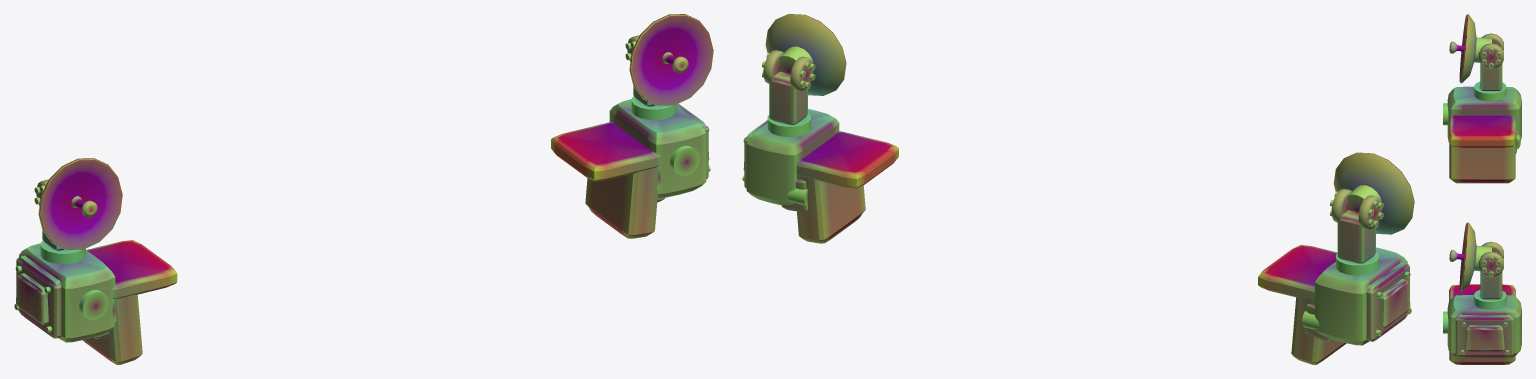
Rendered from llm_gen_shoulder_pods_071_bb2232.glb.
The picture shows the model from 3 angles, left to right: view 1: azimuth 30°, elevation 25°; view 2: azimuth 150°, elevation 25°; view 3: azimuth 270°, elevation 25°; orthographic projection. The views are drawn at different scales.
Visible parts, largest first — view 1: adapter_shoulder_yoke_r, parabolic_dish_5_wing_white_l, parabolic_dish_5_wing_white_r, adapter_shoulder_yoke_l, radar_housing_0_wing_white_r, radar_housing_0_wing_white_l, adapter_sub_ew_bezel_dark_7_adapter_dark_l, ew_side_plate_blue_8_adapter_dark_l, recon_optic_9_optic_cyan_r, recon_optic_9_optic_cyan_l, adapter_sub_azimuth_base_dark_1_adapter_dark_r, adapter_sub_azimuth_base_dark_1_adapter_dark_l; view 2: adapter_shoulder_yoke_r, radar_housing_0_wing_white_r, adapter_shoulder_yoke_l, radar_housing_0_wing_white_l, parabolic_dish_5_wing_white_l, parabolic_dish_5_wing_white_r, adapter_sub_dish_pedestal_dark_2_adapter_dark_r, adapter_sub_dish_pedestal_dark_2_adapter_dark_l, adapter_sub_ew_bezel_dark_7_adapter_dark_l, ew_side_plate_blue_8_adapter_dark_l, servo_3_servo_accent_l, servo_3_servo_accent_r (+2 smaller); view 3: adapter_shoulder_yoke_l, radar_housing_0_wing_white_l, radar_housing_0_wing_white_r, adapter_sub_ew_bezel_dark_7_adapter_dark_r, ew_side_plate_blue_8_adapter_dark_r, adapter_shoulder_yoke_r, parabolic_dish_5_wing_white_r, parabolic_dish_5_wing_white_l, servo_3_servo_accent_r, servo_3_servo_accent_l, adapter_sub_dish_pedestal_dark_2_adapter_dark_r, adapter_sub_dish_pedestal_dark_2_adapter_dark_l (+10 smaller).
Part boxes in pixels (x1,y1,x2,y2): adapter_shoulder_yoke_r: [551, 122, 660, 238]; parabolic_dish_5_wing_white_l: [38, 158, 122, 250]; parabolic_dish_5_wing_white_r: [629, 14, 713, 105]; adapter_shoulder_yoke_l: [82, 240, 177, 364]; radar_housing_0_wing_white_r: [609, 99, 706, 198]; radar_housing_0_wing_white_l: [19, 243, 115, 342]; adapter_sub_ew_bezel_dark_7_adapter_dark_l: [16, 255, 61, 338]; ew_side_plate_blue_8_adapter_dark_l: [14, 265, 52, 332]; recon_optic_9_optic_cyan_r: [670, 145, 699, 175]; recon_optic_9_optic_cyan_l: [79, 290, 108, 319]; adapter_sub_azimuth_base_dark_1_adapter_dark_r: [631, 96, 676, 119]; adapter_sub_azimuth_base_dark_1_adapter_dark_l: [40, 240, 85, 264]; adapter_shoulder_yoke_r: [796, 131, 898, 243]; radar_housing_0_wing_white_r: [746, 109, 839, 205]; adapter_shoulder_yoke_l: [1258, 244, 1346, 364]; radar_housing_0_wing_white_l: [1315, 247, 1407, 345]; parabolic_dish_5_wing_white_l: [1333, 152, 1414, 234]; parabolic_dish_5_wing_white_r: [765, 14, 846, 95]; adapter_sub_dish_pedestal_dark_2_adapter_dark_r: [769, 71, 807, 125]; adapter_sub_dish_pedestal_dark_2_adapter_dark_l: [1337, 210, 1375, 263]; adapter_sub_ew_bezel_dark_7_adapter_dark_l: [1366, 262, 1409, 341]; ew_side_plate_blue_8_adapter_dark_l: [1375, 271, 1411, 336]; servo_3_servo_accent_l: [1331, 188, 1381, 230]; servo_3_servo_accent_r: [763, 50, 813, 91]; adapter_shoulder_yoke_l: [1449, 115, 1515, 183]; radar_housing_0_wing_white_l: [1447, 86, 1521, 142]; radar_housing_0_wing_white_r: [1447, 295, 1521, 357]; adapter_sub_ew_bezel_dark_7_adapter_dark_r: [1455, 314, 1513, 357]; ew_side_plate_blue_8_adapter_dark_r: [1460, 322, 1509, 354]; adapter_shoulder_yoke_r: [1449, 284, 1515, 364]; parabolic_dish_5_wing_white_r: [1459, 222, 1476, 291]; parabolic_dish_5_wing_white_l: [1459, 14, 1476, 83]; servo_3_servo_accent_r: [1478, 241, 1503, 277]; servo_3_servo_accent_l: [1478, 33, 1503, 69]; adapter_sub_dish_pedestal_dark_2_adapter_dark_r: [1480, 272, 1502, 299]; adapter_sub_dish_pedestal_dark_2_adapter_dark_l: [1480, 63, 1502, 90].
Size of the model in its own units: 109 by 31.97 by 15.25.
